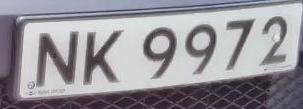2: (258, 8, 295, 69)
7: (220, 14, 262, 76)
9: (137, 16, 183, 88), (179, 15, 224, 82)
K: (80, 20, 126, 92)
N: (34, 22, 82, 95)
